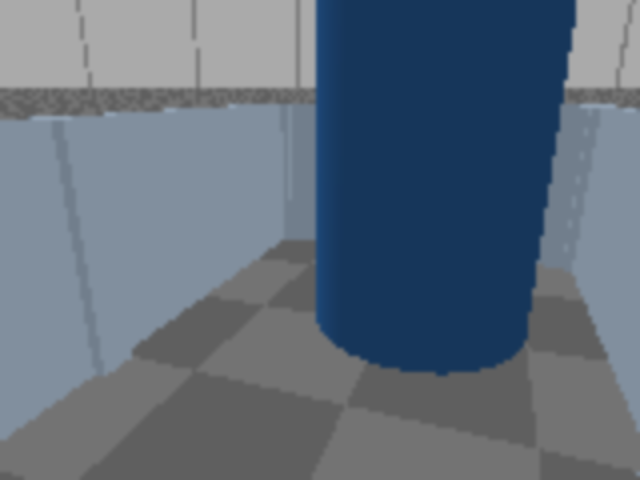person: (322, 0, 638, 370)
